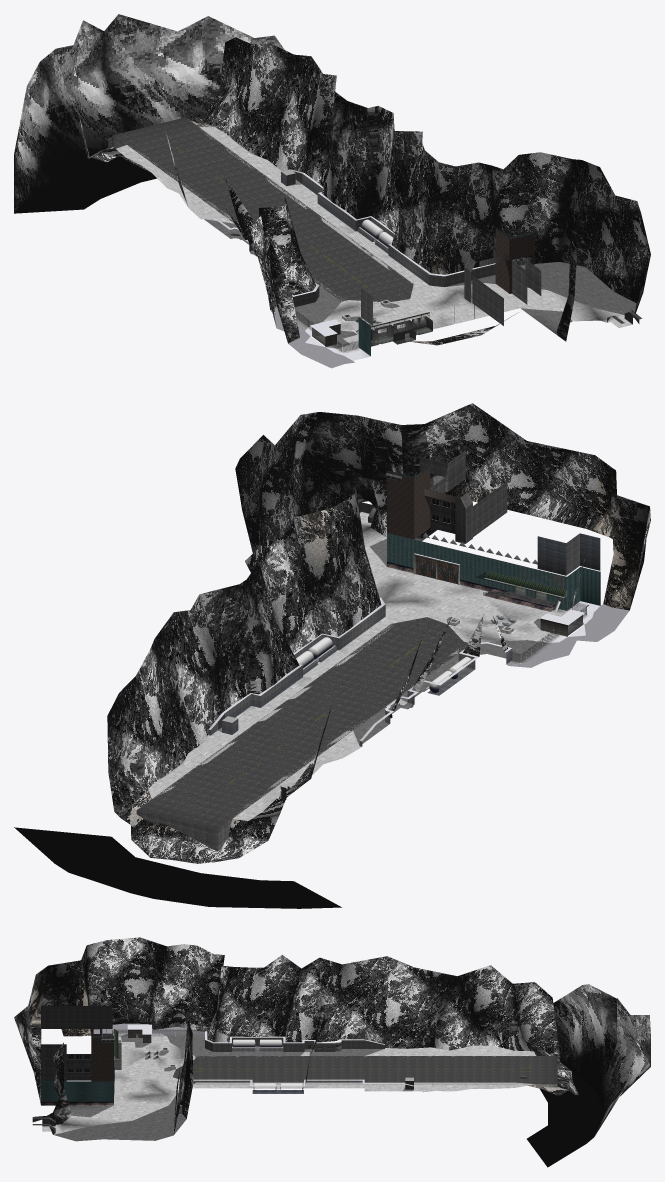
File: Runway.glb
The picture shows the model from 3 angles, top to bottom: view 1: azimuth 30°, elevation 25°; view 2: azimuth 150°, elevation 25°; view 3: azimuth 270°, elevation 25°; orthographic projection. The views are drawn at different scales.
Parts seen in each view (by area): view 1: Runway_16, Runway_77, Runway_37, Runway_36, Runway_14, Runway_Alpha_35, Runway_41, Runway_18, Runway_Alpha_34, Runway_1; view 2: Runway_16, Runway_36, Runway_37, Runway_Alpha_35, Runway_14, Runway_25, Runway_41, Runway_18, Runway_Alpha_34, Runway_1, Runway_51, Runway_24; view 3: Runway_16, Runway_37, Runway_36, Runway_77, Runway_14, Runway_Alpha_35, Runway_41, Runway_25, Runway_18, Runway_Alpha_34, Runway_51, Runway_19 (+1 smaller).
Boxes of the visible parts, x1,y1,x2,y2 form: Runway_16: (75, 37, 650, 345); Runway_77: (14, 14, 284, 213); Runway_37: (116, 126, 636, 352); Runway_36: (114, 117, 642, 337); Runway_14: (104, 105, 541, 346); Runway_Alpha_35: (14, 110, 366, 286); Runway_41: (201, 169, 495, 368); Runway_18: (495, 229, 534, 293); Runway_Alpha_34: (130, 129, 411, 300); Runway_1: (371, 227, 528, 344); Runway_16: (107, 403, 650, 863); Runway_36: (137, 499, 555, 829); Runway_37: (148, 512, 585, 820); Runway_Alpha_35: (14, 641, 423, 908); Runway_14: (130, 450, 600, 851); Runway_25: (387, 533, 600, 610); Runway_41: (208, 597, 629, 741); Runway_18: (387, 467, 430, 539); Runway_Alpha_34: (153, 545, 553, 816); Runway_1: (385, 473, 561, 602); Runway_51: (296, 637, 471, 692); Runway_24: (387, 561, 556, 611); Runway_16: (14, 937, 578, 1133); Runway_37: (42, 1036, 535, 1141); Runway_36: (32, 1043, 557, 1125); Runway_77: (553, 984, 650, 1136); Runway_14: (41, 1006, 517, 1113); Runway_Alpha_35: (335, 1024, 602, 1167); Runway_41: (93, 1023, 422, 1105); Runway_25: (41, 1081, 113, 1101); Runway_18: (91, 1038, 113, 1081); Runway_Alpha_34: (195, 1056, 535, 1084); Runway_51: (232, 1039, 303, 1091); Runway_19: (66, 1040, 114, 1073).
Size of the model in its own units: 167 by 74.87 by 338.
Materials: 78 (77 with a texture image).
